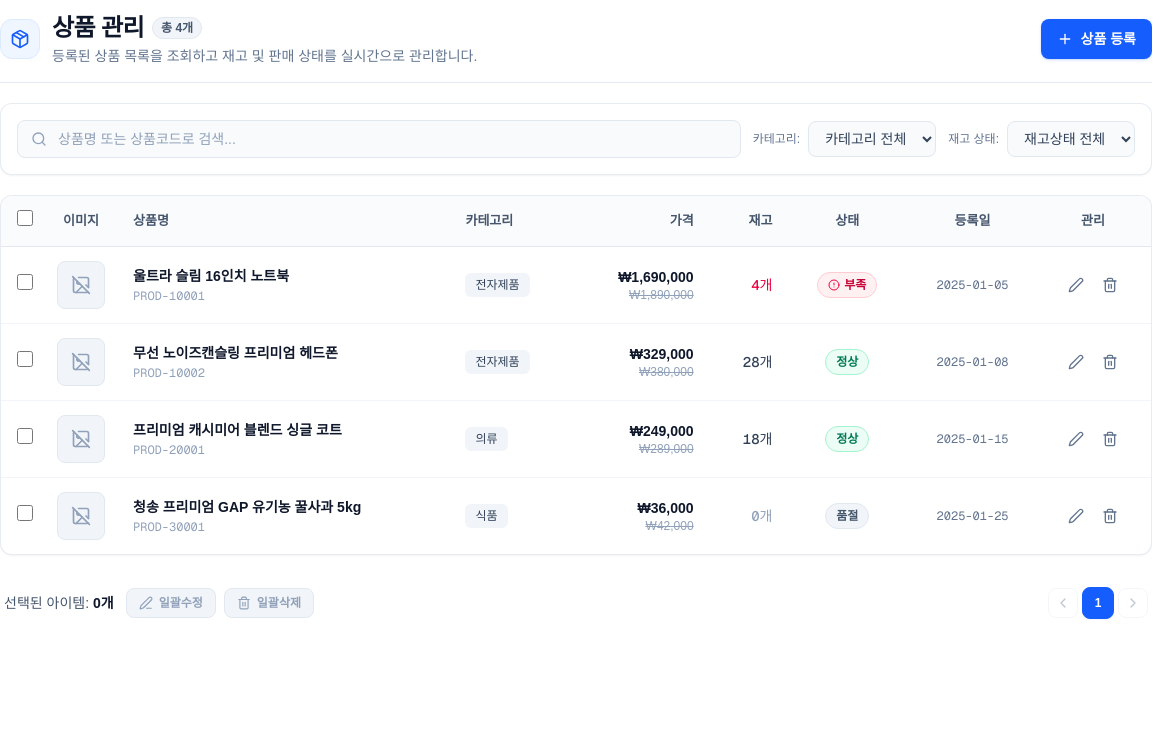
Test: ProductView Component (Integration/Presentation Test) › 체크박스 개별 선택 및 해제를 지원한다
Click the checkbox named "울트라 슬림 16인치 노트북 선택".
click(25, 282)  # box [17, 274, 33, 290]
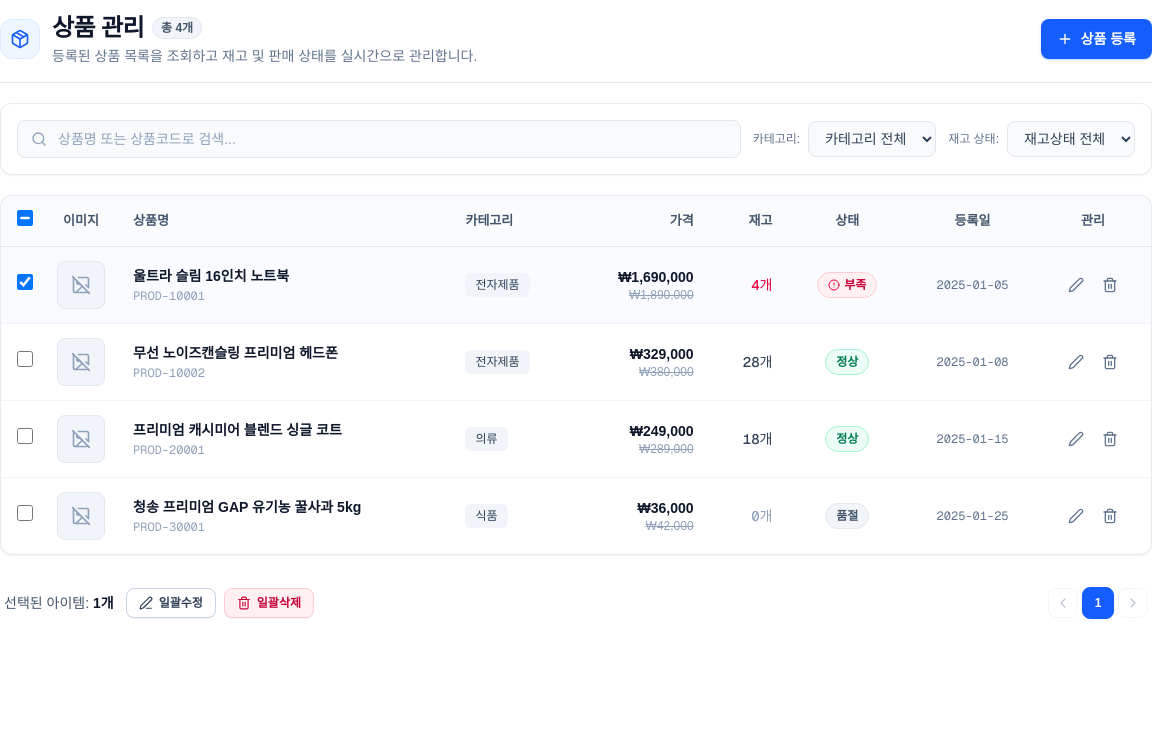
expect the text "선택된 아이템: 1개" is shown: met, box [4, 592, 114, 612]
Click the checkbox named "울트라 슬림 16인치 노트북 선택".
click(25, 282)  # box [17, 274, 33, 290]
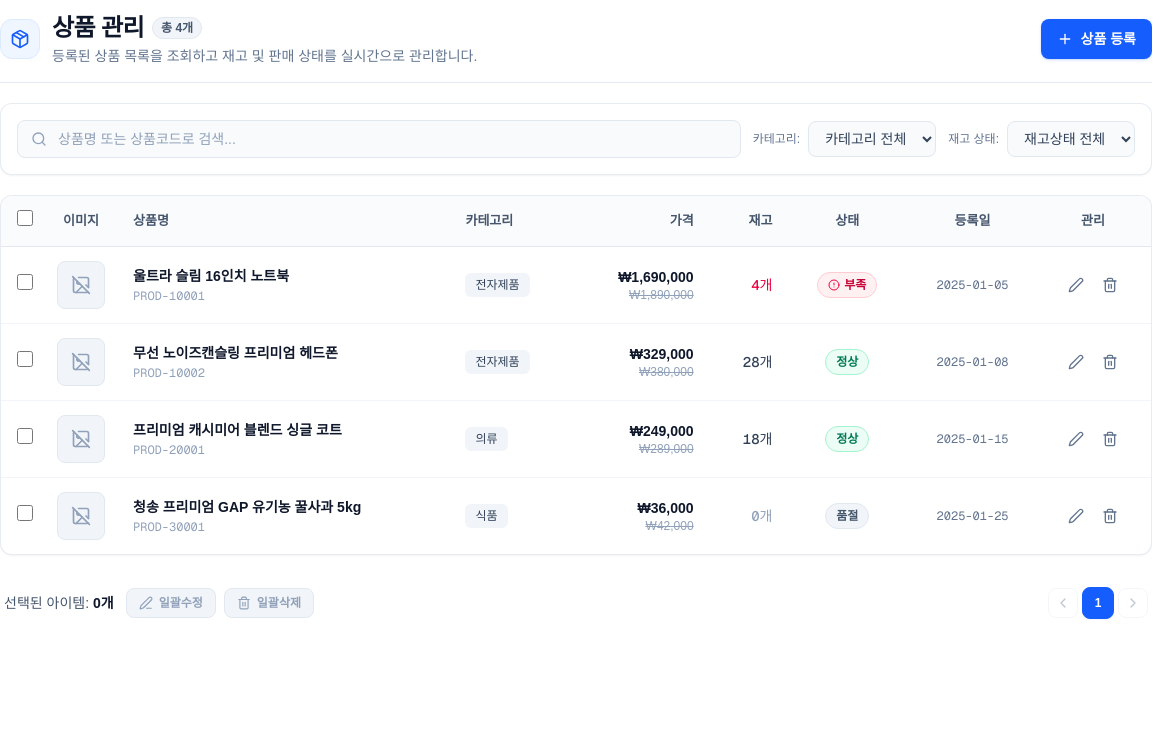
expect the text "선택된 아이템: 0개" is shown: met, box [4, 592, 114, 612]
